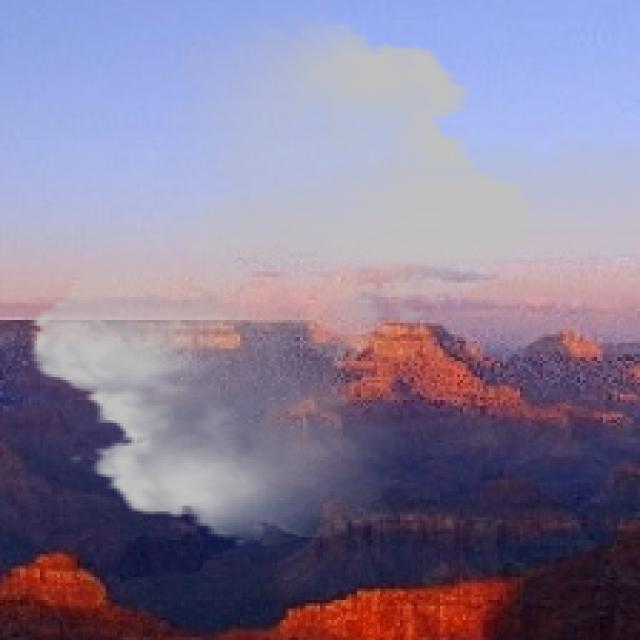smoke: (14, 14, 549, 546)
